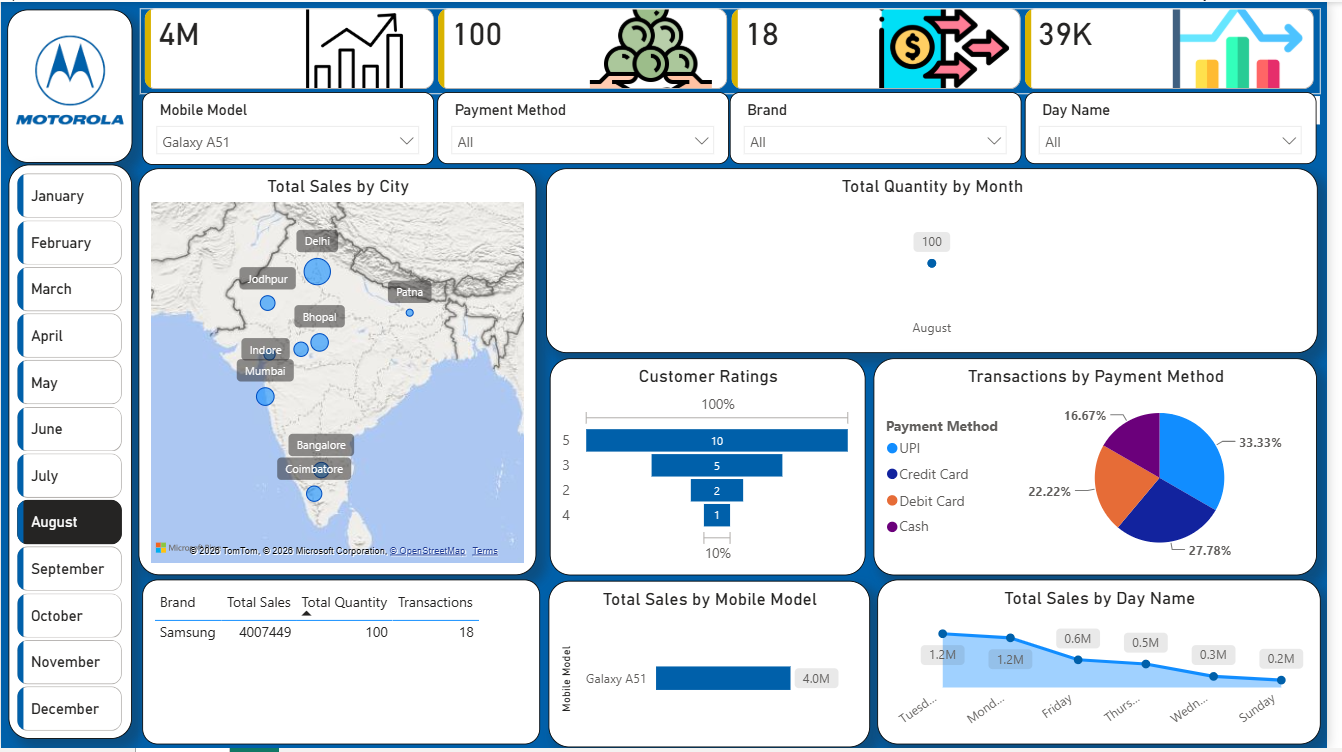

Layout of this report page (visuals, bound fields, positions):
{"tool":"powerbi","page":{"name":"Page 1","canvas":[1280,720],"ordinal":0},"visuals":[{"type":"shape","box":[5.5,6.9,120.8,148.2],"z":0},{"type":"image","box":[9.6,16.5,113.9,116.6],"z":1000},{"type":"shape","box":[6.9,156.4,119.4,554.4],"z":2000},{"type":"advancedSlicerVisual","fields":{"Values":["Sales_Data.Date.Variation.Date Hierarchy.Month"]},"box":[11,160.5,111.1,548.9],"z":3000},{"type":"cardVisual","fields":{"Data":["Sales_Data.Total Sales","Sales_Data.Total Quantity","Sales_Data.Transactions","Sales_Data.Average"]},"box":[134,5.6,1140.1,83.7],"z":4000},{"type":"map","fields":{"Category":["Sales_Data.City"],"Size":["Sales_Data.Total Sales"]},"box":[132.9,160.8,384.1,393.1],"z":5000},{"type":"lineChart","fields":{"Y":["Sales_Data.Total Quantity"],"Category":["Sales_Data.Date.Variation.Date Hierarchy.Month","Sales_Data.Date.Variation.Date Hierarchy.Day"]},"box":[525.9,160.8,744.8,178.7],"z":6000},{"type":"clusteredBarChart","fields":{"Category":["Sales_Data.Mobile Model"],"Y":["Sales_Data.Total Sales"]},"box":[528.3,558.5,310.1,160.5],"z":7000},{"type":"pieChart","fields":{"Category":["Sales_Data.Payment Method"],"Y":["Sales_Data.Transactions"]},"box":[842.5,344.4,428.1,209.9],"z":8000},{"type":"funnel","title":"Customer Ratings","fields":{"Category":["Sales_Data.Customer Ratings"],"Y":["CountNonNull(Sales_Data.Customer Ratings)"]},"box":[529.7,344.4,304.6,209.9],"z":9000},{"type":"areaChart","fields":{"Category":["Sales_Data.Day Name"],"Y":["Sales_Data.Total Sales"]},"box":[845.3,557.1,428.1,159.2],"z":10000},{"type":"tableEx","fields":{"Values":["Sales_Data.Brand","Sales_Data.Total Sales","Sales_Data.Total Quantity","Sales_Data.Transactions"]},"box":[135.8,557.1,384.2,159.2],"z":11000},{"type":"slicer","fields":{"Values":["Sales_Data.Mobile Model"]},"box":[136.2,87.1,281.4,70.3],"z":12000},{"type":"slicer","fields":{"Values":["Sales_Data.Payment Method"]},"box":[421,87.1,281.4,69.2],"z":13000},{"type":"slicer","fields":{"Values":["Sales_Data.Brand"]},"box":[703.5,87.1,281.4,69.2],"z":14000},{"type":"slicer","fields":{"Values":["Sales_Data.Day Name"]},"box":[988.2,87.1,281.4,69.2],"z":15000}]}

Visuals, with their boxes in screenshot pixels (x1, y1, x2, y2), scaled from the page's 1280x720 canvas onto the 1342x752 screenshot:
shape: box(6, 7, 132, 162)
image: box(10, 17, 129, 139)
shape: box(7, 163, 132, 742)
advancedSlicerVisual - Sales_Data.Date.Variation.Date Hierarchy.Month: box(12, 168, 128, 741)
cardVisual - Sales_Data.Total Sales x Sales_Data.Total Quantity: box(140, 6, 1336, 93)
map - Sales_Data.City x Sales_Data.Total Sales: box(139, 168, 542, 579)
lineChart - Sales_Data.Total Quantity x Sales_Data.Date.Variation.Date Hierarchy.Month: box(551, 168, 1332, 355)
clusteredBarChart - Sales_Data.Mobile Model x Sales_Data.Total Sales: box(554, 583, 879, 751)
pieChart - Sales_Data.Payment Method x Sales_Data.Transactions: box(883, 360, 1332, 579)
"Customer Ratings" funnel: box(555, 360, 875, 579)
areaChart - Sales_Data.Day Name x Sales_Data.Total Sales: box(886, 582, 1335, 748)
tableEx - Sales_Data.Brand x Sales_Data.Total Sales: box(142, 582, 545, 748)
slicer - Sales_Data.Mobile Model: box(143, 91, 438, 164)
slicer - Sales_Data.Payment Method: box(441, 91, 736, 163)
slicer - Sales_Data.Brand: box(738, 91, 1033, 163)
slicer - Sales_Data.Day Name: box(1036, 91, 1331, 163)
